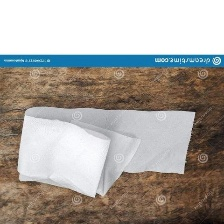tissue: (12, 101, 203, 201)
